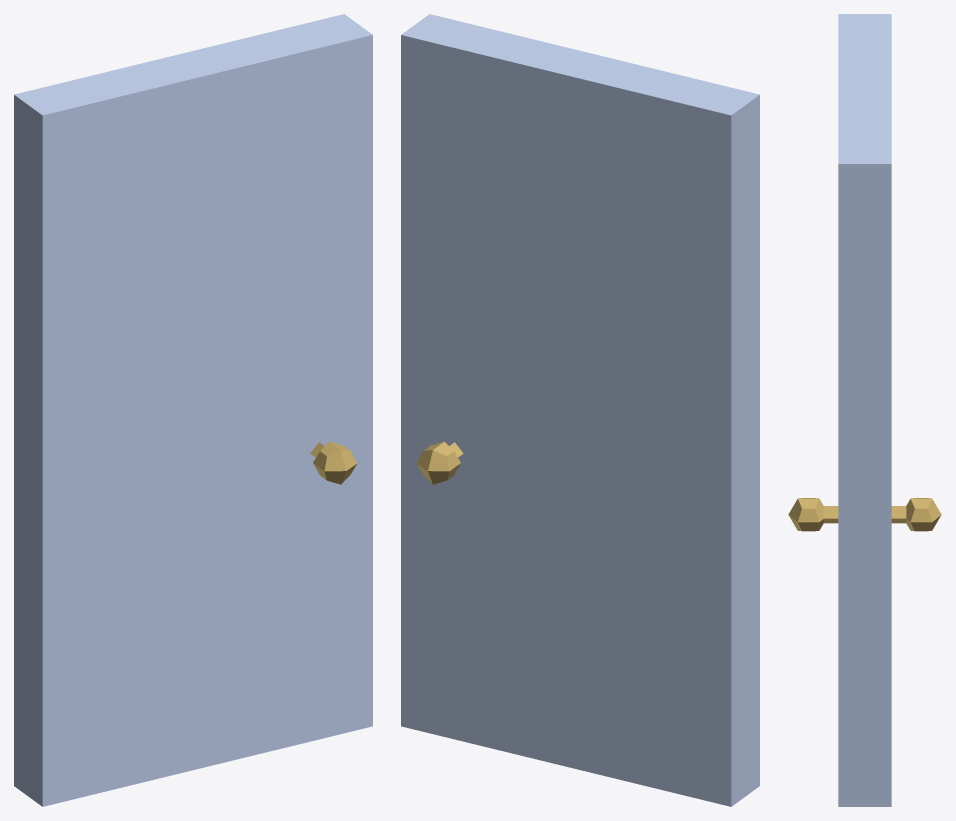
Rendered from doorknob.fbx.
3 renders of one model, left to right at view 1: azimuth 30°, elevation 25°; view 2: azimuth 150°, elevation 25°; view 3: azimuth 270°, elevation 25°, orthographic. The views are drawn at different scales.
Visible parts, largest first — view 1: Cube; view 2: Cube; view 3: Cube.
Part boxes in pixels (x1,y1,x2,y2): Cube: [14, 14, 372, 806]; Cube: [401, 14, 759, 806]; Cube: [788, 14, 941, 806].
Size of the model in its own units: 400 by 800 by 173.
